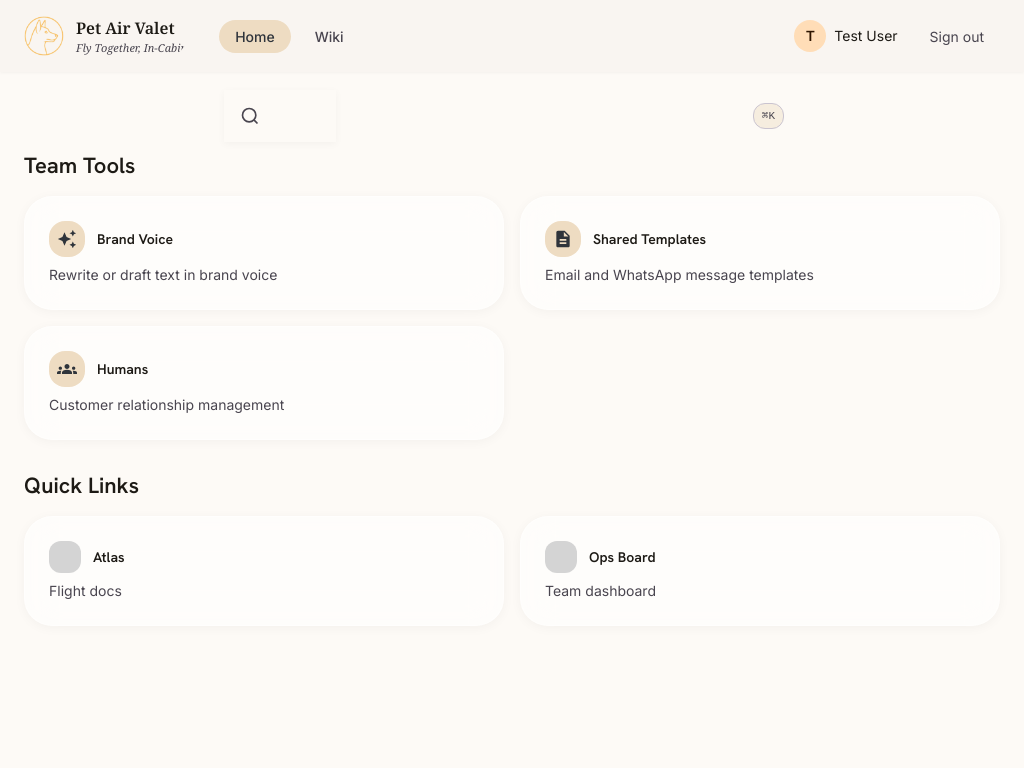
Test: StartPage › filters results by search and clears search via clear button
The width and height of the screenshot is (1024, 768).
Replace the text in the field labelled "⌘K" with "brand" at (768, 116), box x1=224 y1=104 x2=800 y2=128
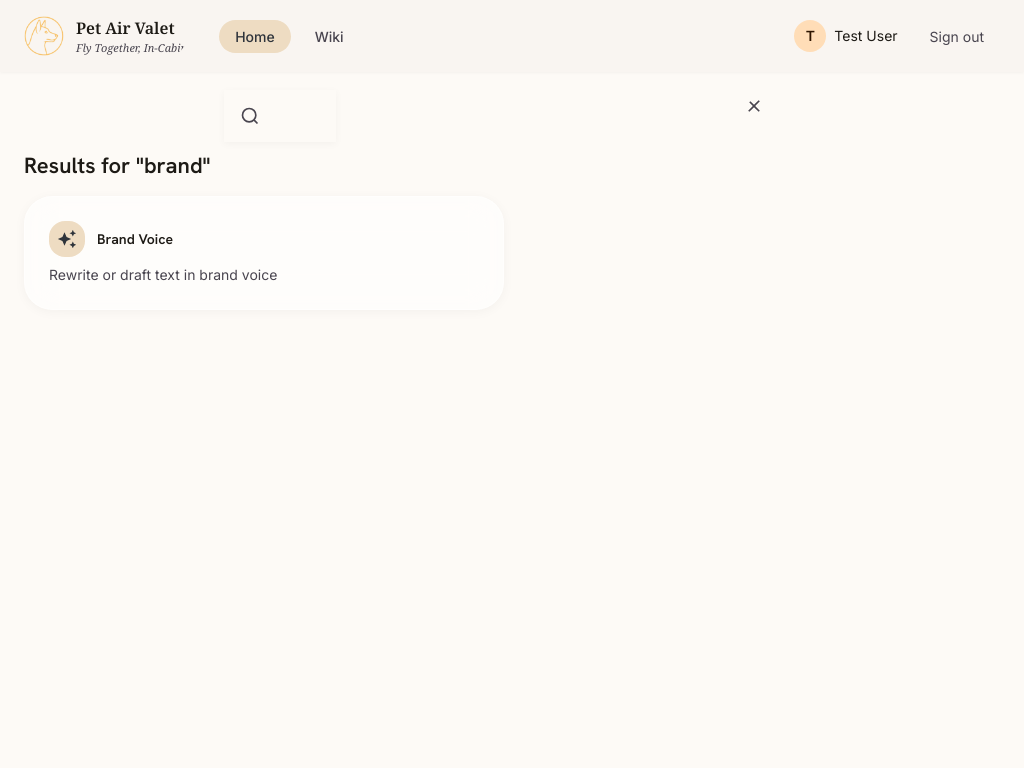
Expected: the heading "Brand Voice" is shown, x1=97 y1=229 x2=173 y2=249
Result: the heading "Results for \"brand\"" is shown at x1=24 y1=151 x2=210 y2=180
Click the button named "Clear search" at (764, 116), box x1=744 y1=96 x2=784 y2=136
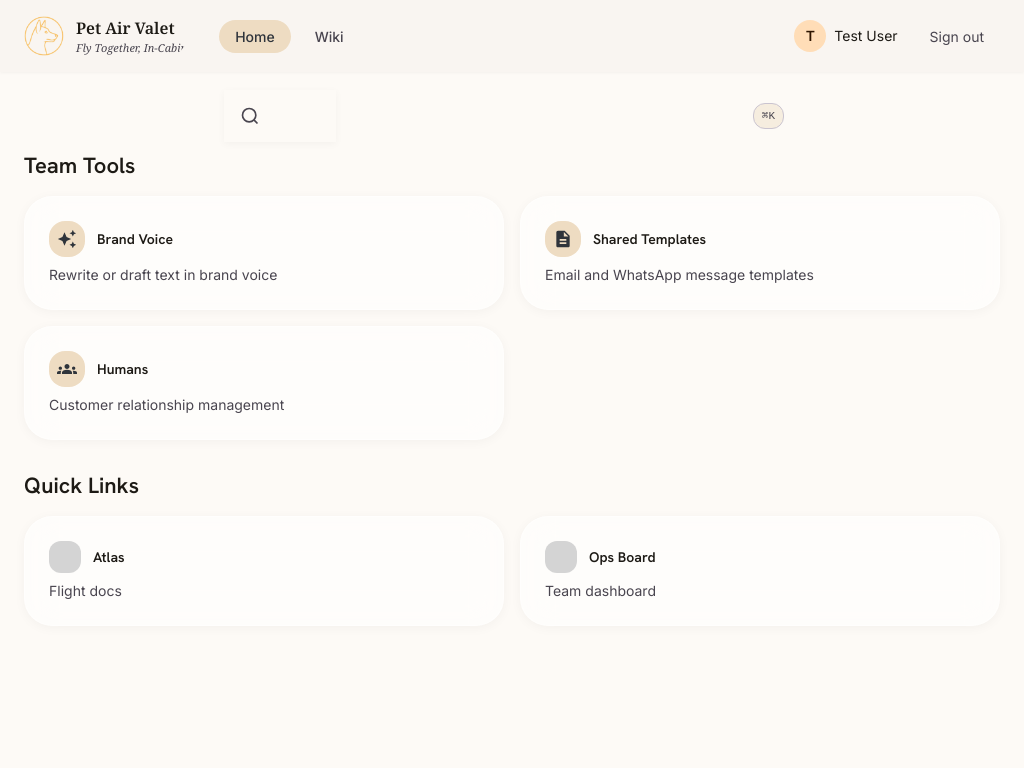
Result: the text "⌘K" is shown at x1=753 y1=103 x2=784 y2=129
